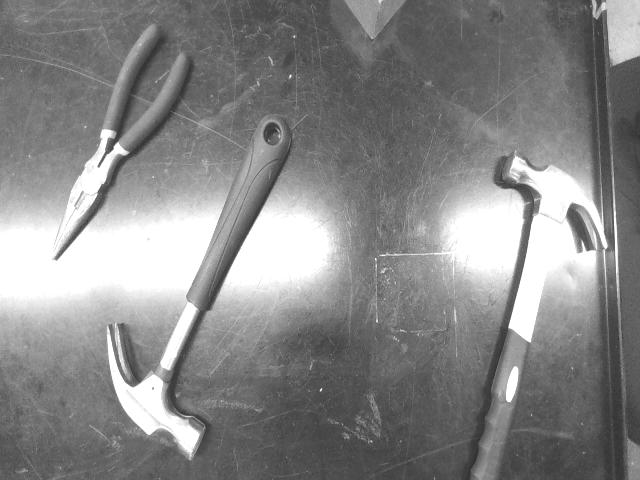Hammer: (108, 115, 291, 459), (471, 152, 608, 480)
Needle-nose pliers: (52, 25, 189, 260)
